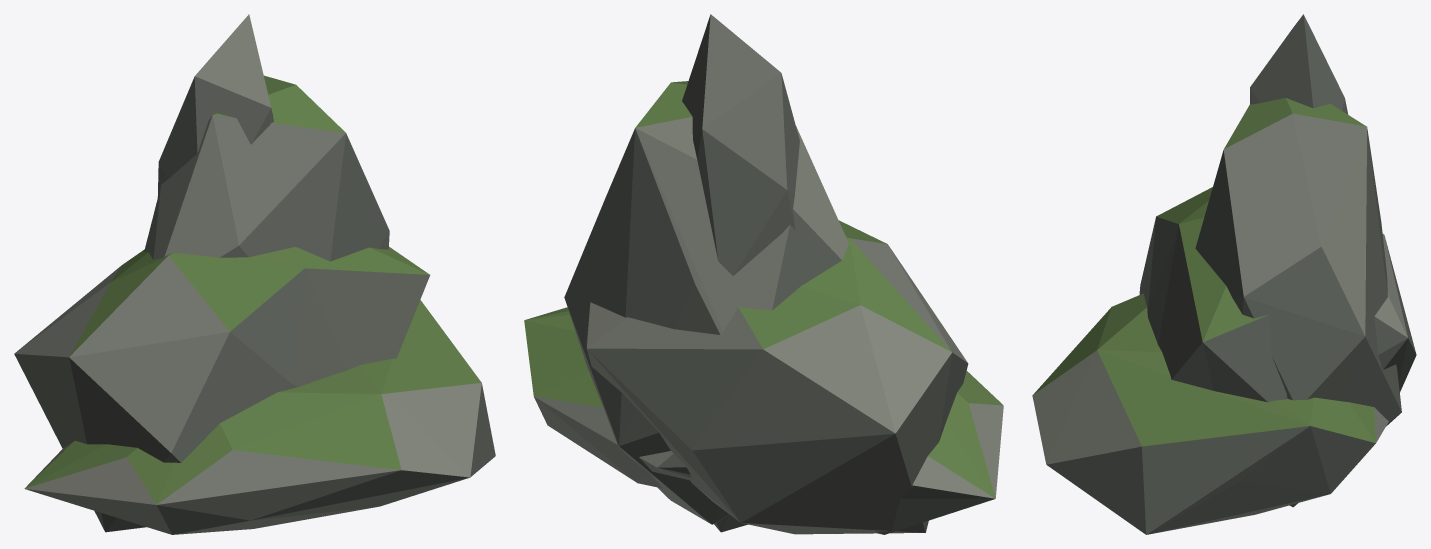
Rendered from rock_outcrop.glb.
3 renders of one model, left to right at view 1: azimuth 30°, elevation 25°; view 2: azimuth 150°, elevation 25°; view 3: azimuth 270°, elevation 25°, orthographic. The views are drawn at different scales.
Parts seen in each view (by area): view 1: RockOutcrop / Rock, RockOutcrop / RockLight, RockOutcrop / Moss; view 2: RockOutcrop / Rock, RockOutcrop / RockLight, RockOutcrop / Moss; view 3: RockOutcrop / Rock, RockOutcrop / RockLight, RockOutcrop / Moss.
Boxes of the visible parts, x1,y1,x2,y2 form: RockOutcrop / Rock: (14, 76, 495, 534); RockOutcrop / RockLight: (14, 14, 481, 504); RockOutcrop / Moss: (25, 75, 481, 504); RockOutcrop / Rock: (534, 14, 994, 534); RockOutcrop / RockLight: (534, 14, 1003, 498); RockOutcrop / Moss: (524, 81, 1002, 498); RockOutcrop / Rock: (1046, 14, 1416, 534); RockOutcrop / RockLight: (1032, 22, 1407, 464); RockOutcrop / Moss: (1033, 98, 1375, 446).
Bounding box in the file's own units: 3.37 × 3.6 × 2.65.
